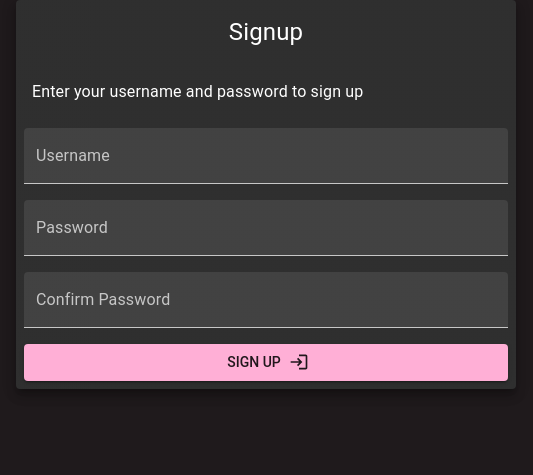
Test: Signup › gives an error when › username is missing
Username is missing
Click the button "Sign up": [266, 362] box [24,344,508,380]
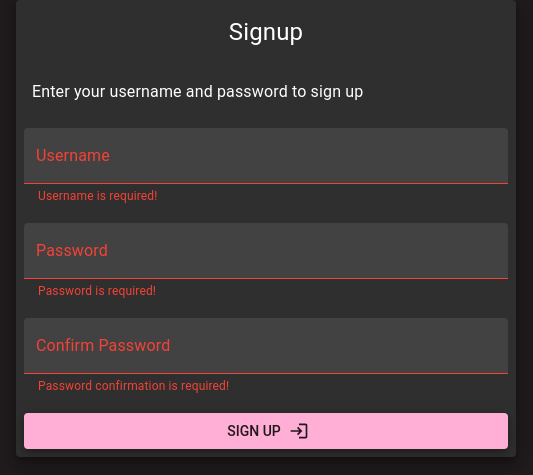
Check: the text "Username is required!" is shown, box [38,189,158,203]
